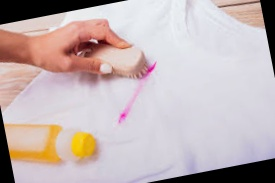lipstick: (115, 106, 134, 126), (142, 61, 158, 80), (132, 85, 142, 98)
